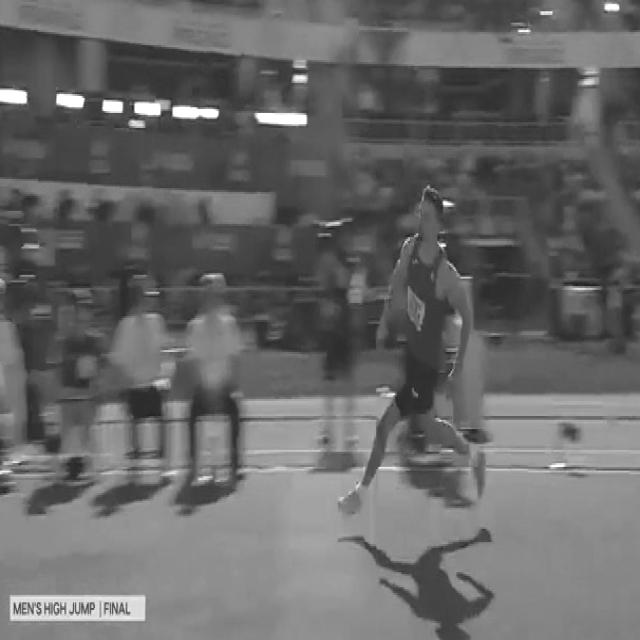run: (338, 183, 488, 524)
